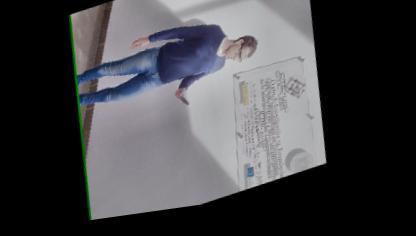knife: (176, 94, 193, 116)
